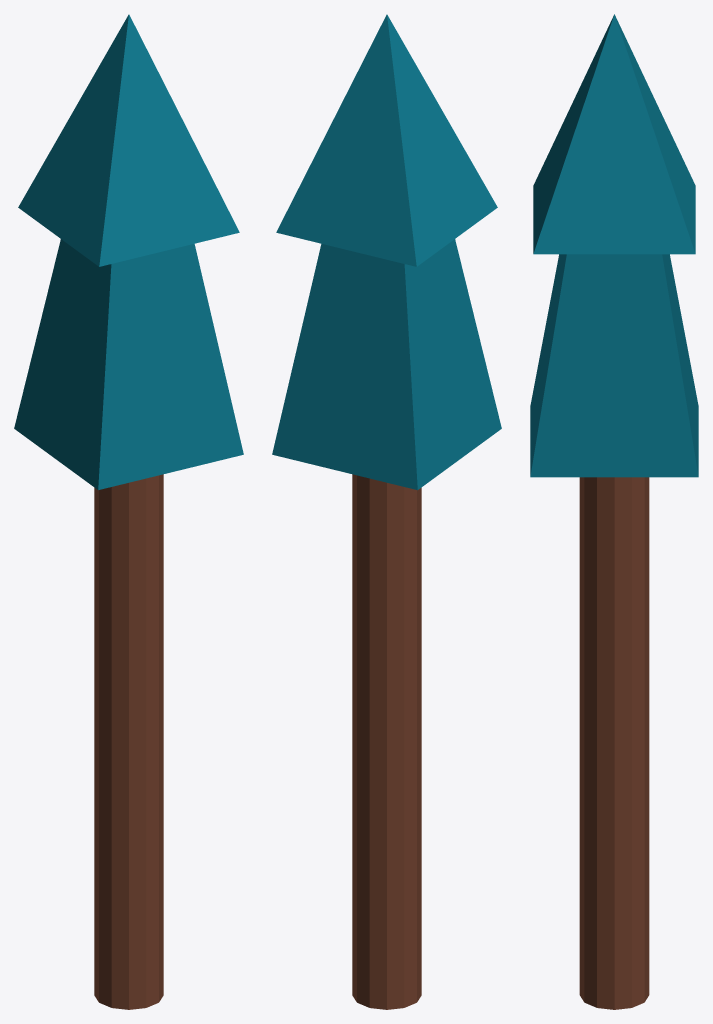
Rendered from Tree_16_summer_blue_vc.fbx.
3 views of the same model, side by side, from view 1: azimuth 30°, elevation 25°; view 2: azimuth 150°, elevation 25°; view 3: azimuth 270°, elevation 25° (orthographic).
Visible parts, largest first — view 1: Tree_16_summer_blue_vc; view 2: Tree_16_summer_blue_vc; view 3: Tree_16_summer_blue_vc.
Part boxes in pixels (<box>): Tree_16_summer_blue_vc: <box>14,14,243,1009</box>; Tree_16_summer_blue_vc: <box>272,14,501,1009</box>; Tree_16_summer_blue_vc: <box>530,14,698,1009</box>.
Bounding box in the file's own units: 53.67 × 345 × 53.67.
